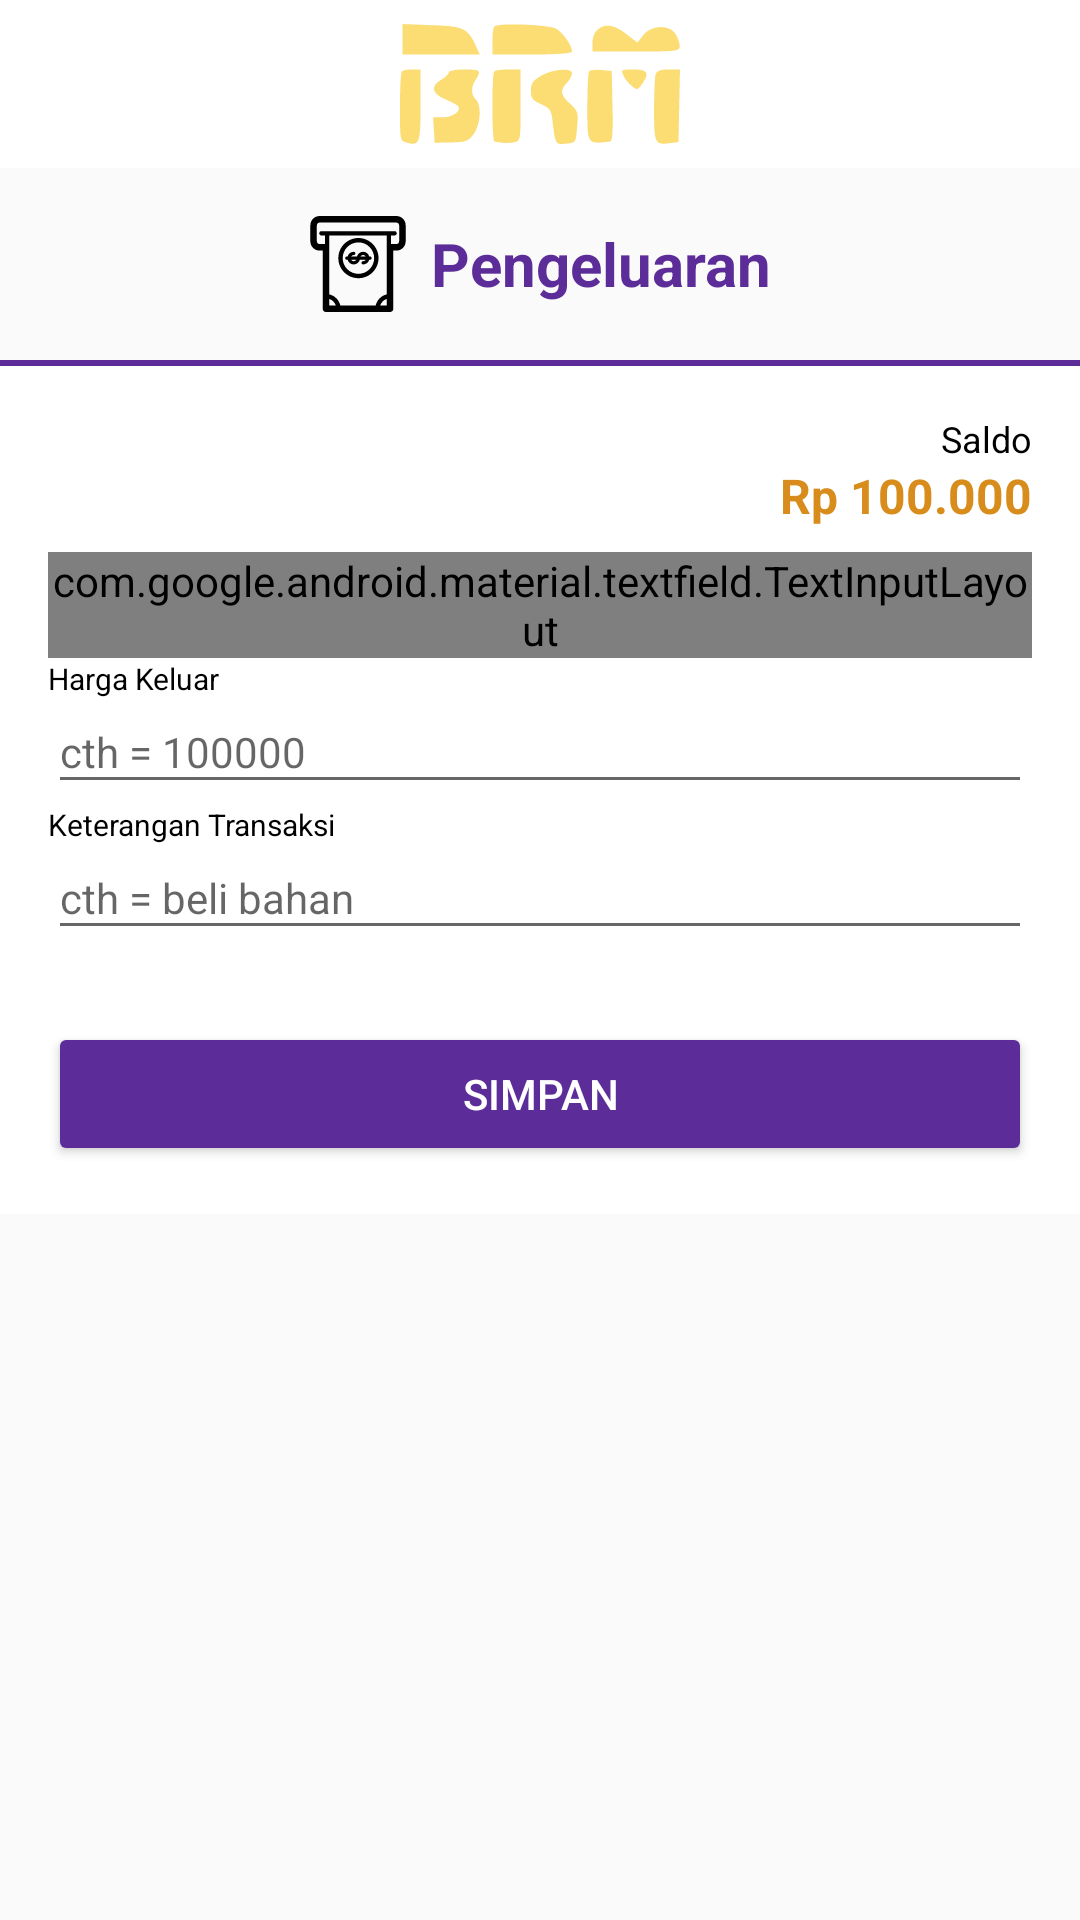

Where icons sit on this 1080*1920 app screen, as detection(x1, y1, x2, y2):
atm: detection(310, 216, 406, 312)
